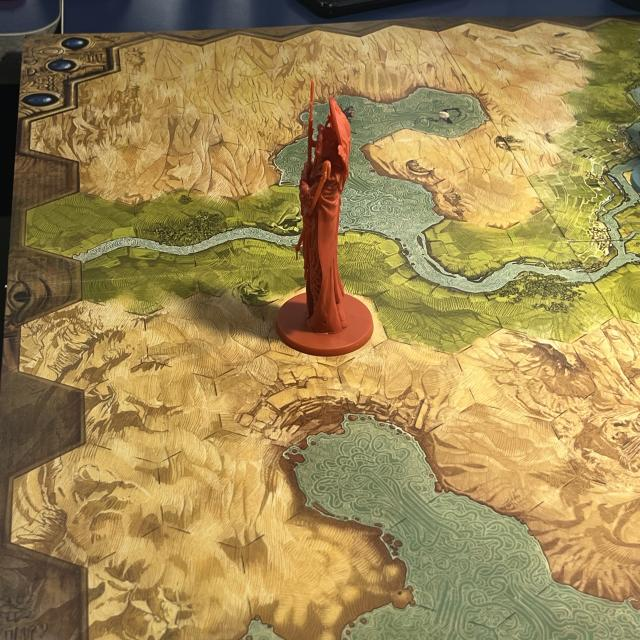amon: (265, 73, 394, 352)
